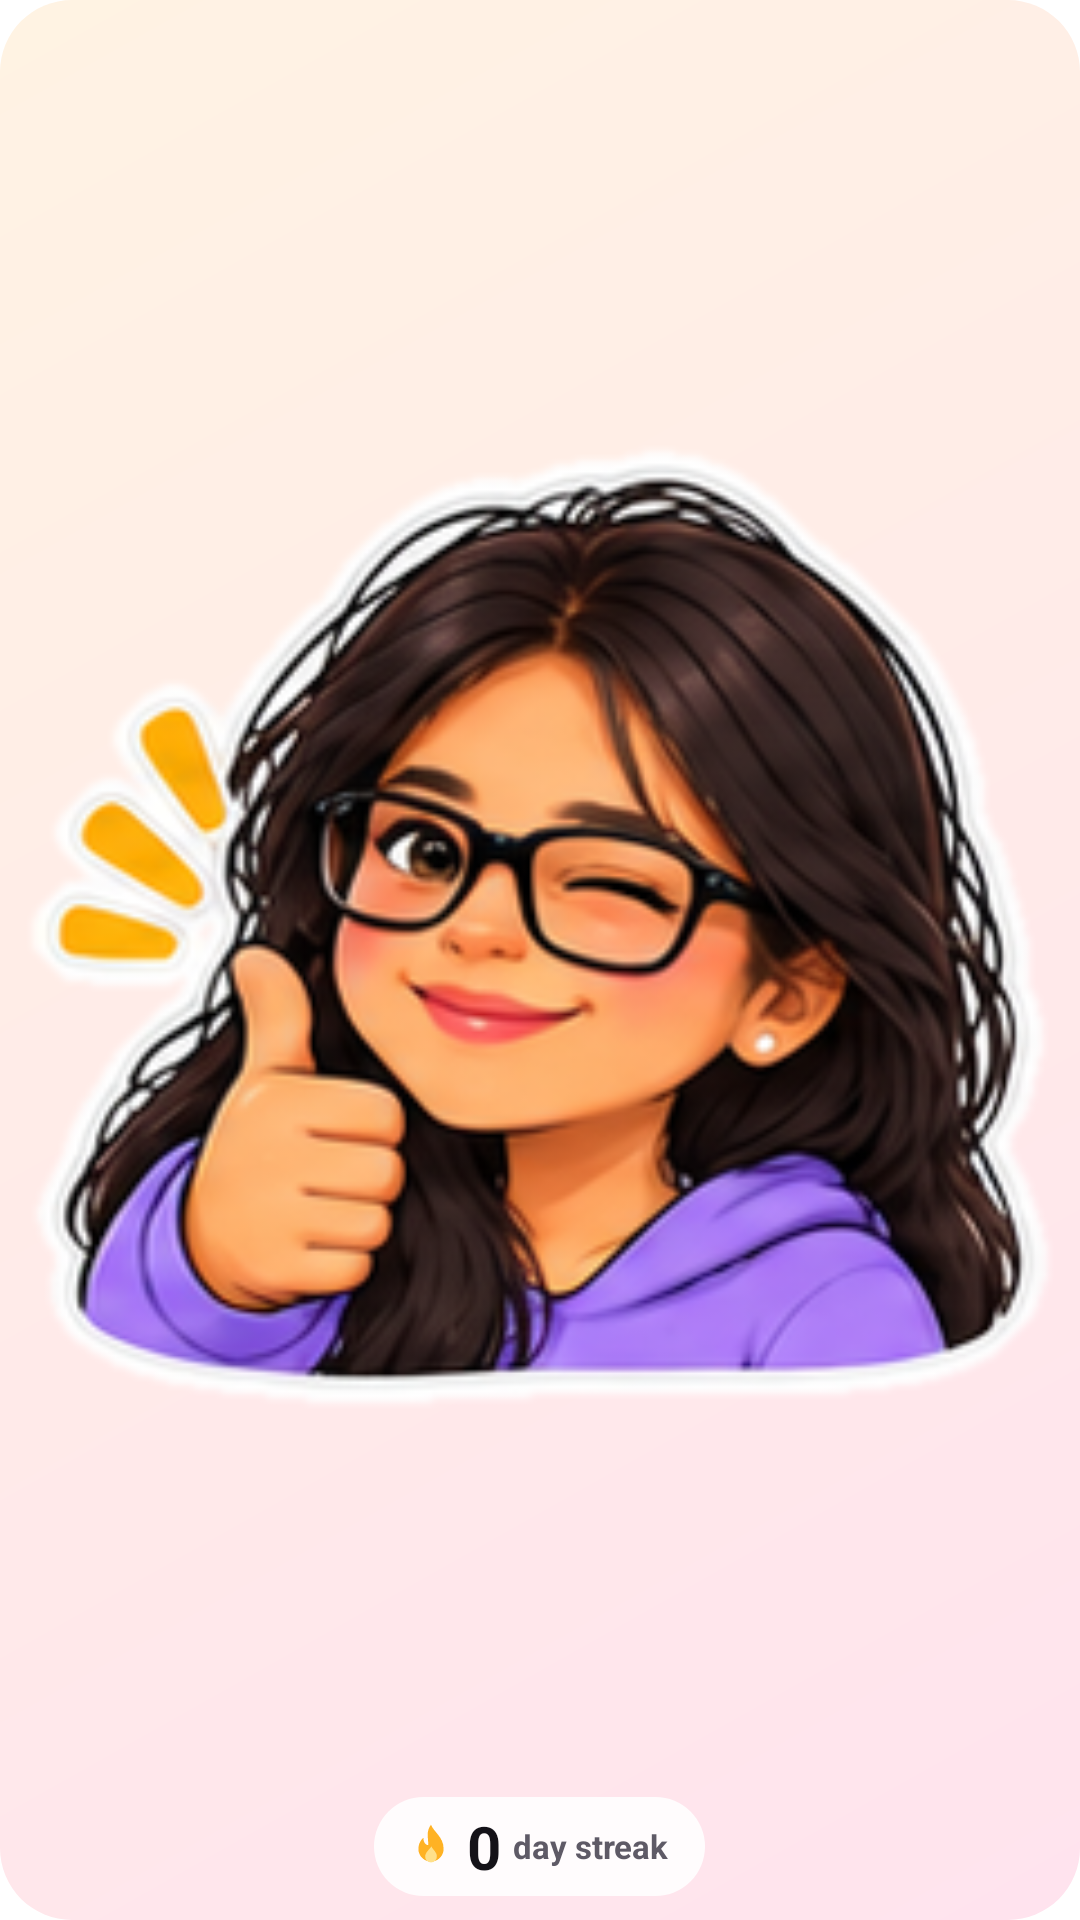

Screen size 1080x1920. Icon name, then its box in pixels as (x1, y1, x2, y2):
widget flame: (418, 1825, 444, 1863)
